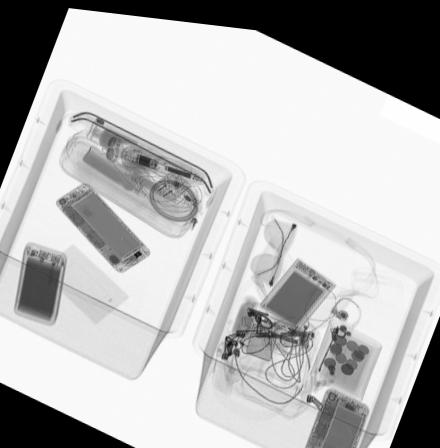Lighter: (296, 314, 312, 338)
